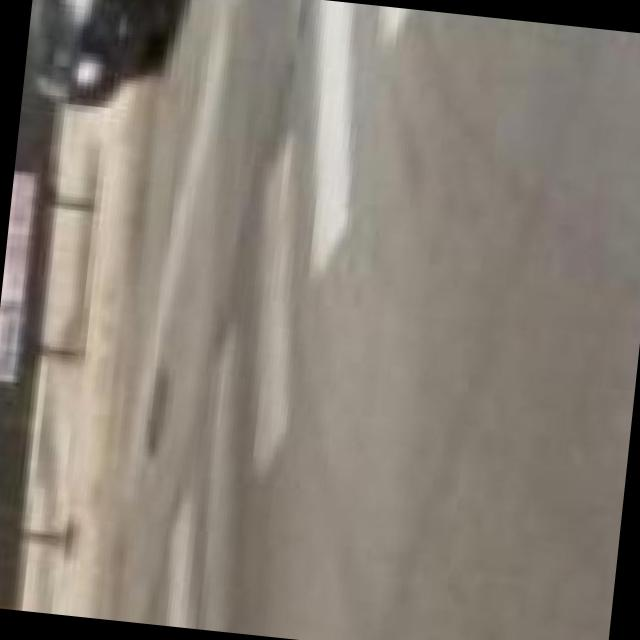zebra: (123, 0, 430, 633)
